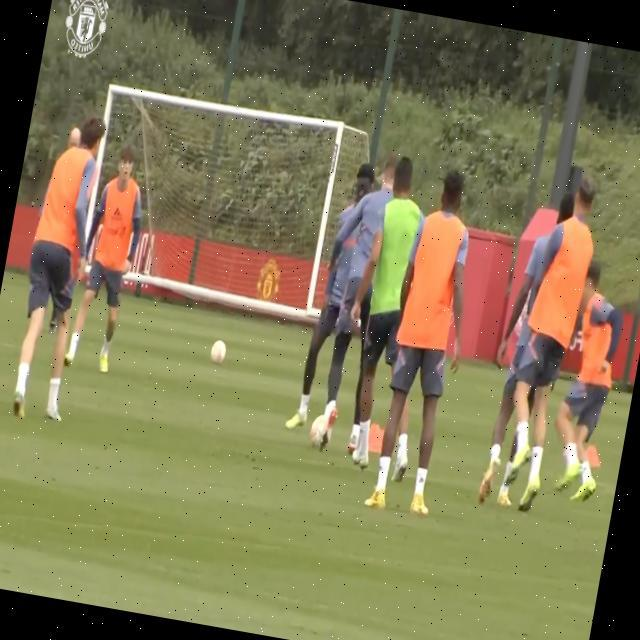Adidas: (110, 204, 124, 223)
